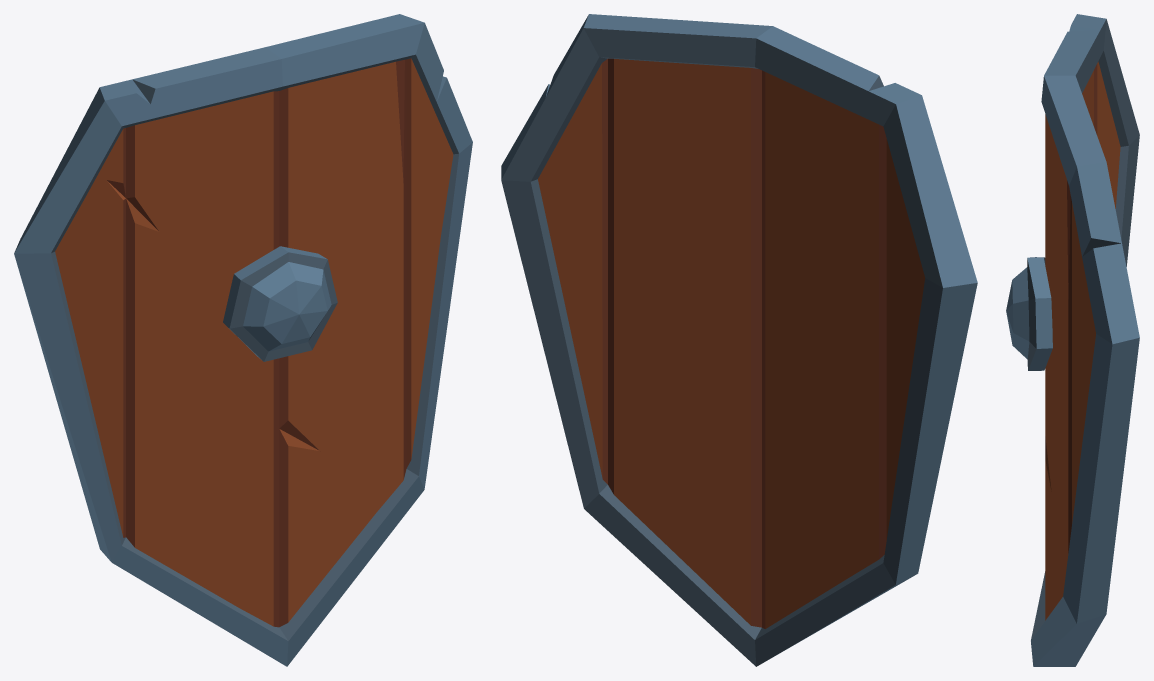
File: SM_MediumShield_A.fbx
3 renders of one model, left to right at view 1: azimuth 30°, elevation 25°; view 2: azimuth 150°, elevation 25°; view 3: azimuth 270°, elevation 25°, orthographic. The views are drawn at different scales.
Parts seen in each view (by area): view 1: SM_MediumShield_A; view 2: SM_MediumShield_A; view 3: SM_MediumShield_A.
Part boxes in pixels (x1=…): SM_MediumShield_A: x1=14, y1=14, x2=472, y2=666; SM_MediumShield_A: x1=501, y1=14, x2=977, y2=666; SM_MediumShield_A: x1=1006, y1=14, x2=1139, y2=666.
Bounding box in the file's own units: 0.8674 × 1.09 × 0.224.
